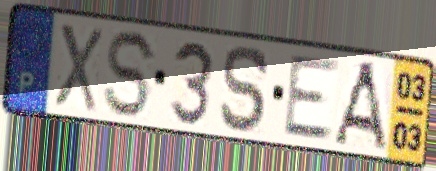3: (167, 37, 215, 128)
A: (331, 59, 390, 155)
E: (280, 54, 342, 143)
S: (102, 28, 161, 121), (217, 42, 272, 136)
X: (51, 19, 104, 115)
